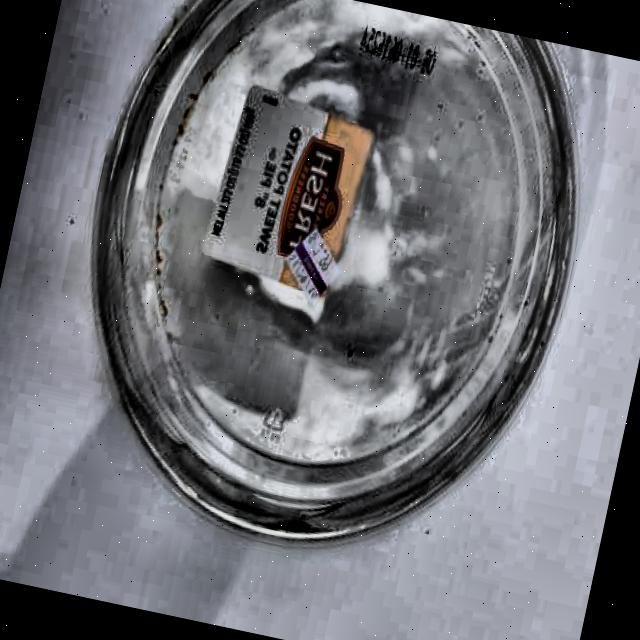plastic: (33, 0, 617, 594)
